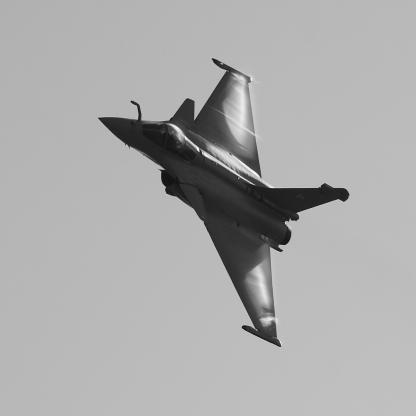Rafale: (99, 59, 351, 348)
